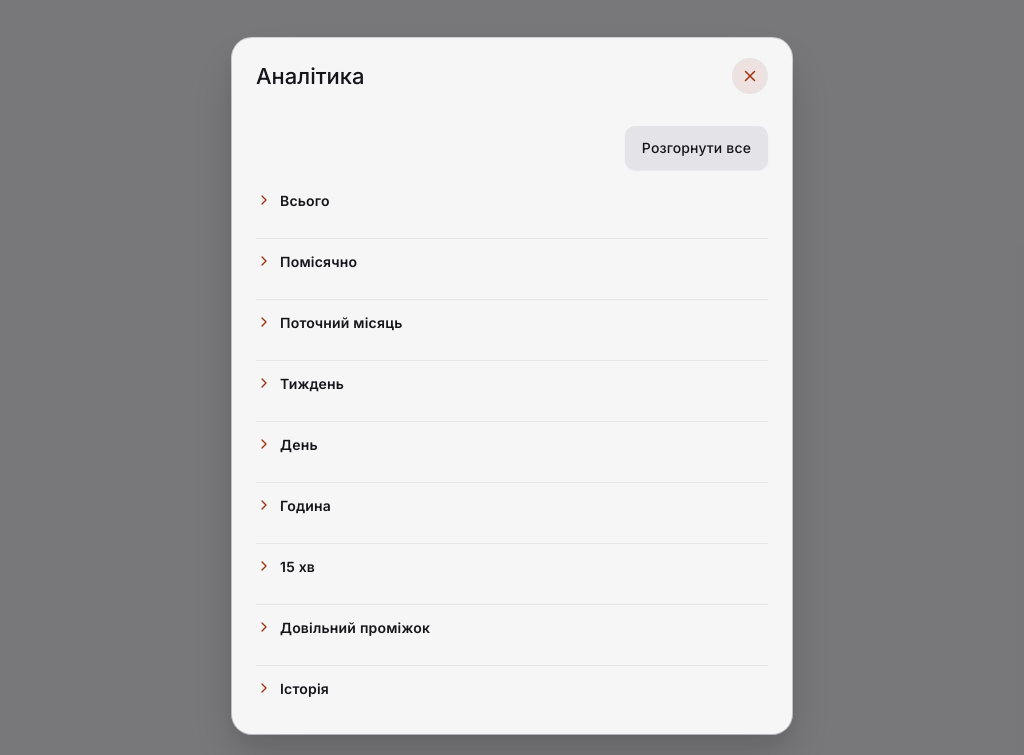
акордеони періодів › виміри стоять точками, а не стовпчиками від нуля
Click the button "Всього" at (305, 200), box [256, 178, 768, 222]
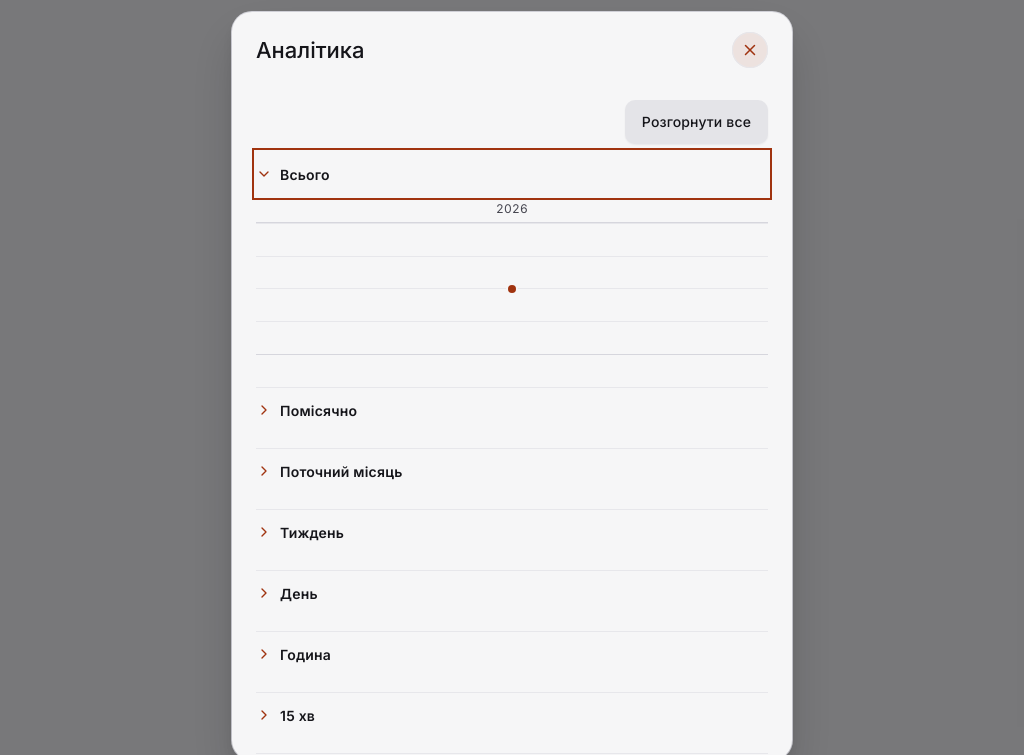
Result: the number of elements with class "wb-tp-dot" is 1 at [508, 284, 516, 292]
